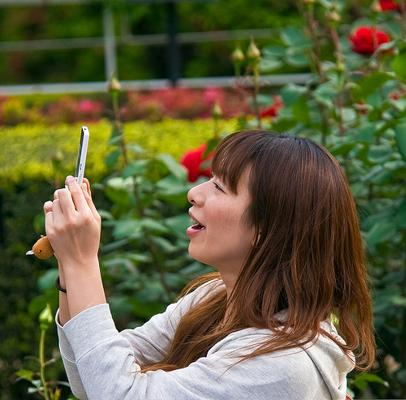person: (44, 130, 373, 400)
